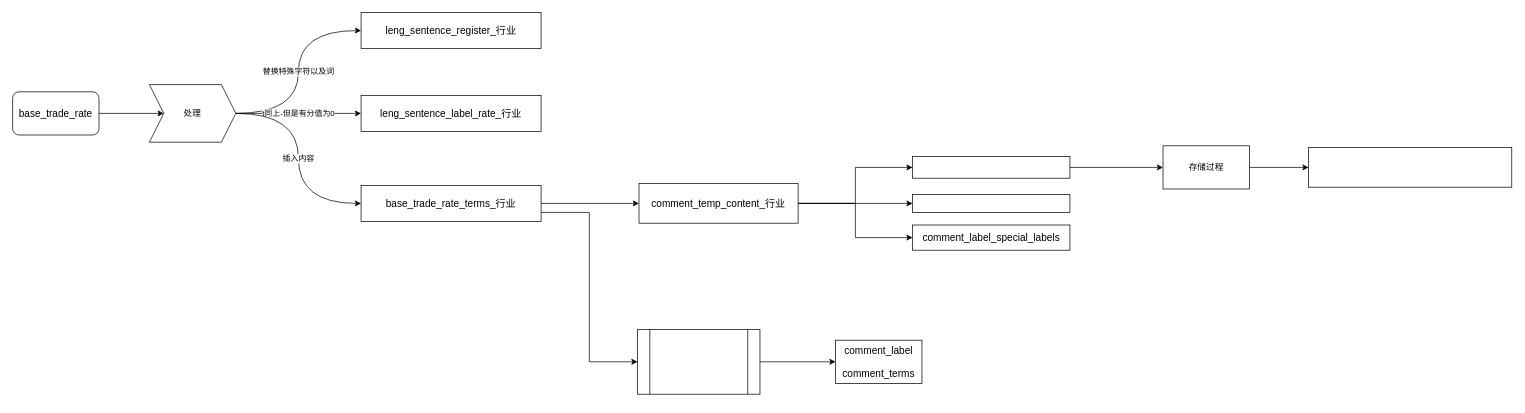
Some shapes in this 1525 by 413 pixel diagram are drawn without their labels. The box of each missing label's shape, as (x1, y1, x2, y2) in pixels:
comment_label: (912, 156, 1070, 178)
comment_label_suspected: (912, 194, 1070, 212)
rpt_category_tagdetail: (1308, 147, 1512, 187)
voc_default.csv voc_dj.csv voc_sj.csv: (637, 329, 760, 394)
